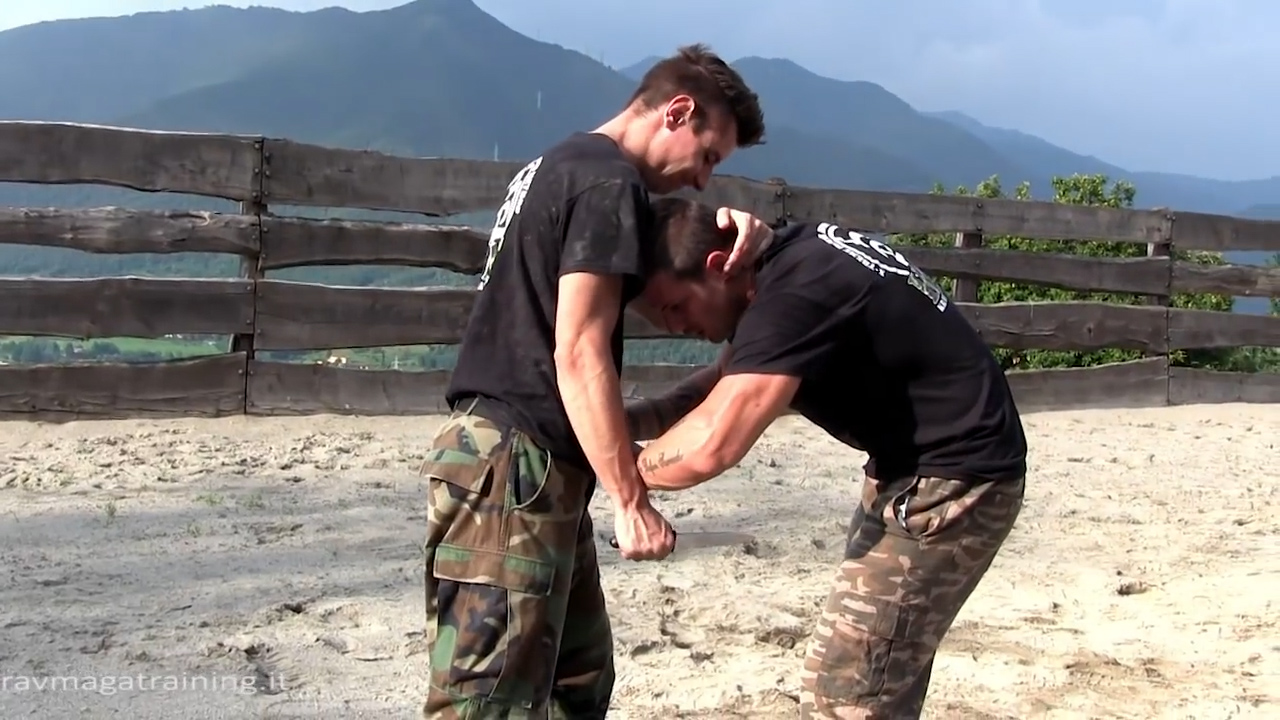knife: (600, 512, 765, 565)
